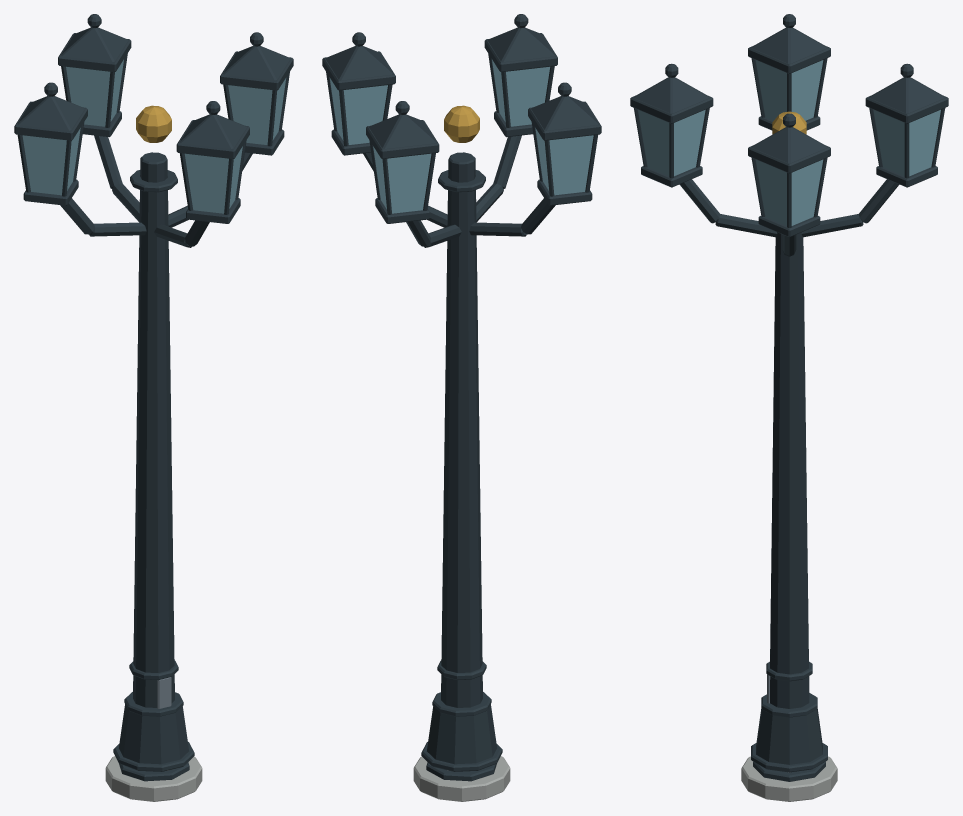
Rendered from b18_four_lantern_plaza_standard.glb.
The picture shows the model from 3 angles, left to right: view 1: azimuth 30°, elevation 25°; view 2: azimuth 150°, elevation 25°; view 3: azimuth 270°, elevation 25°; orthographic projection.
Visible parts, largest first — view 1: b18_four_lantern_plaza_standard; view 2: b18_four_lantern_plaza_standard; view 3: b18_four_lantern_plaza_standard.
Part boxes in pixels (x1,y1,x2,y2): b18_four_lantern_plaza_standard: [14, 14, 293, 801]; b18_four_lantern_plaza_standard: [322, 14, 601, 801]; b18_four_lantern_plaza_standard: [630, 14, 948, 801].
Size of the model in its own units: 1.68 by 4.17 by 1.68.
